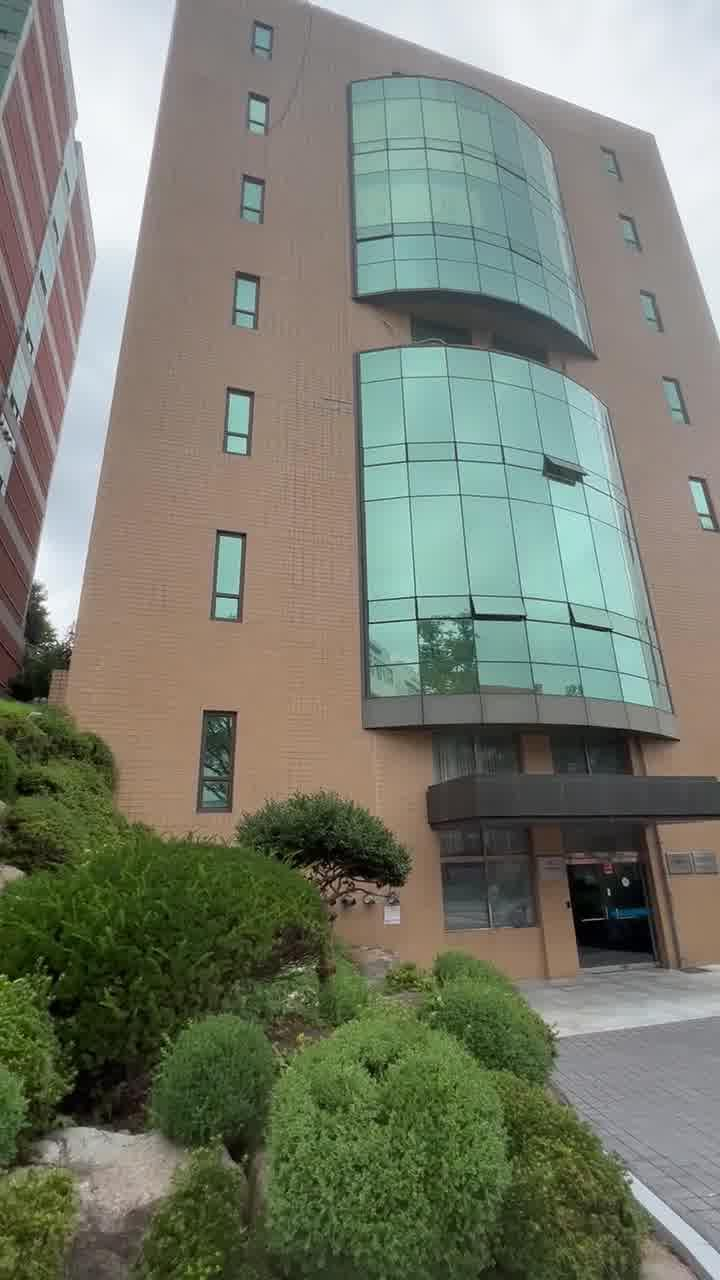building: (134, 20, 720, 810)
